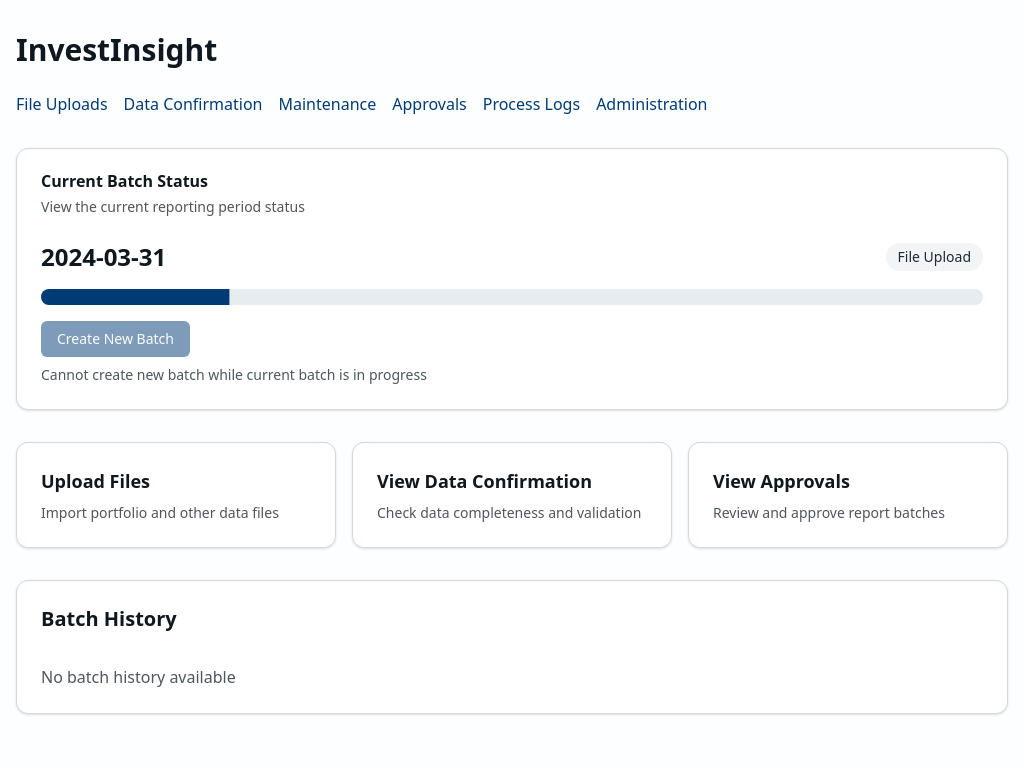
Epic 1, Story 4: Start Page - Navigation Links › Administration Submenu › shows submenu with admin links when Administration is clicked
Click the link "Administration". click: [652, 104]
box: top-left (596, 93), bottom-right (708, 115)
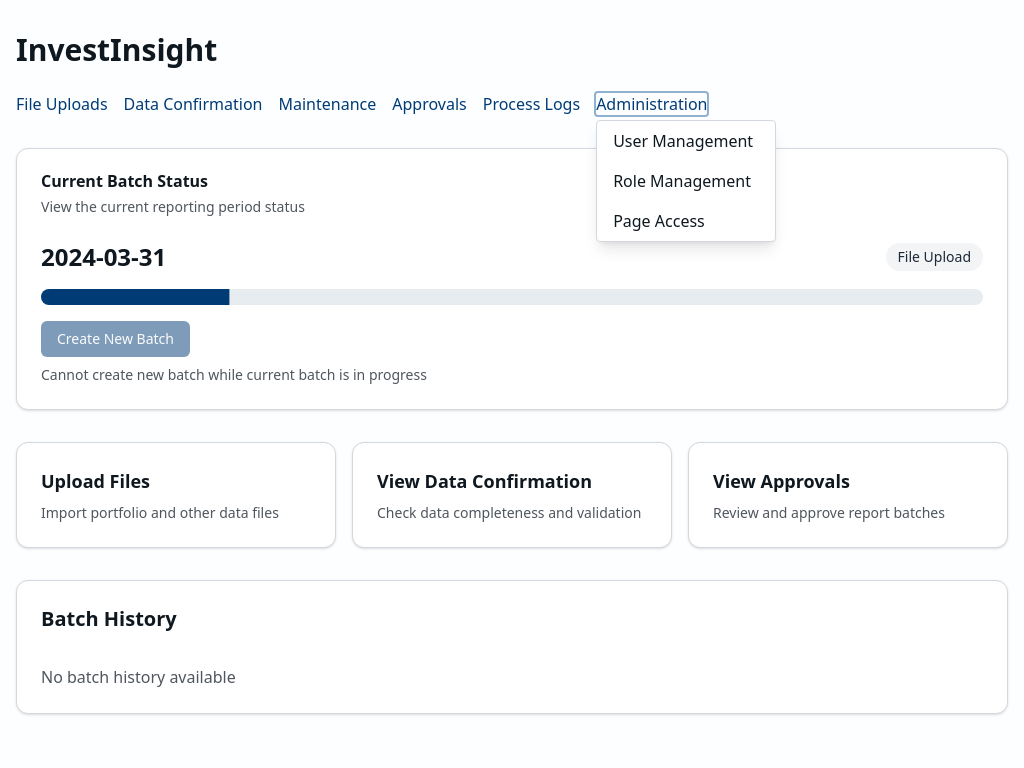
Expected: the link "User Management" is shown, top-left (613, 130), bottom-right (753, 152)
Expected: the link "Role Management" is shown, top-left (613, 170), bottom-right (751, 192)
Expected: the link "Page Access" is shown, top-left (613, 210), bottom-right (705, 232)
